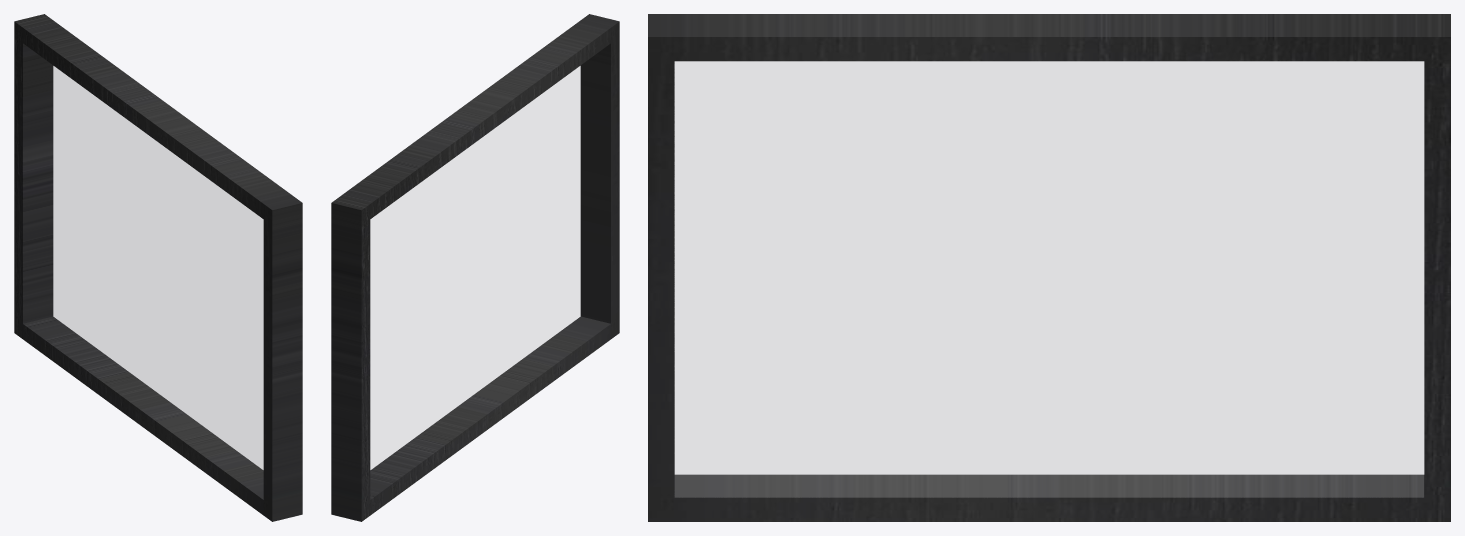
The model's file is lens_room_window.glb.
The picture shows the model from 3 angles, left to right: view 1: azimuth 30°, elevation 25°; view 2: azimuth 150°, elevation 25°; view 3: azimuth 270°, elevation 25°; orthographic projection. The views are drawn at different scales.
Parts seen in each view (by area): view 1: glass, window_frame; view 2: glass, window_frame; view 3: glass, window_frame.
Boxes of the visible parts, bbox=[...] form: glass: bbox=[53, 66, 263, 469]; window_frame: bbox=[14, 14, 302, 521]; glass: bbox=[370, 66, 580, 469]; window_frame: bbox=[331, 14, 619, 521]; glass: bbox=[674, 62, 1423, 497]; window_frame: bbox=[648, 14, 1450, 521].
Bounding box in the file's own units: 0.05 × 0.4914 × 0.7375.
2 materials, 1 textured.
